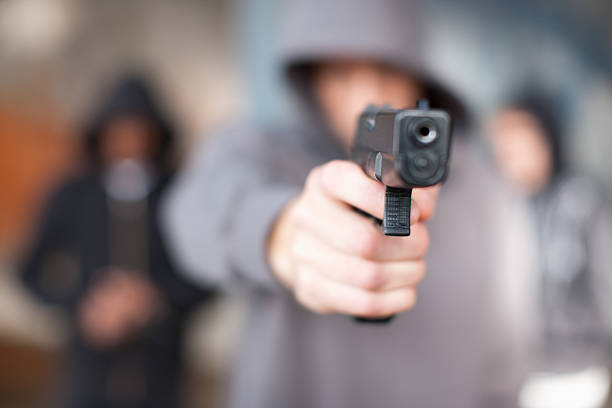pistol: (350, 93, 456, 239)
